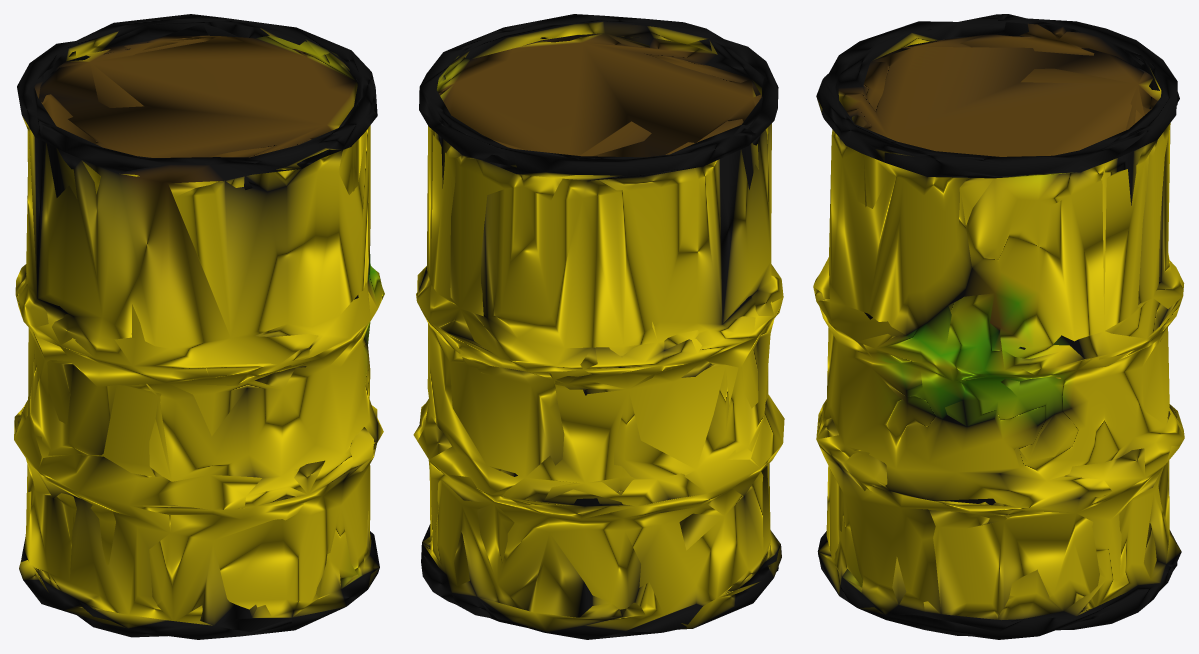
The model's file is gen3d-toxic-barrel-lod0.glb.
3 views of the same model, side by side, from view 1: azimuth 30°, elevation 25°; view 2: azimuth 150°, elevation 25°; view 3: azimuth 270°, elevation 25° (orthographic).
Visible parts, largest first — view 1: part_0; view 2: part_0; view 3: part_0.
Part boxes in pixels (bbox=[...]): part_0: bbox=[14, 14, 384, 639]; part_0: bbox=[413, 14, 784, 639]; part_0: bbox=[813, 14, 1184, 639].
Bounding box in the file's own units: 0.7013 × 1 × 0.7058.
